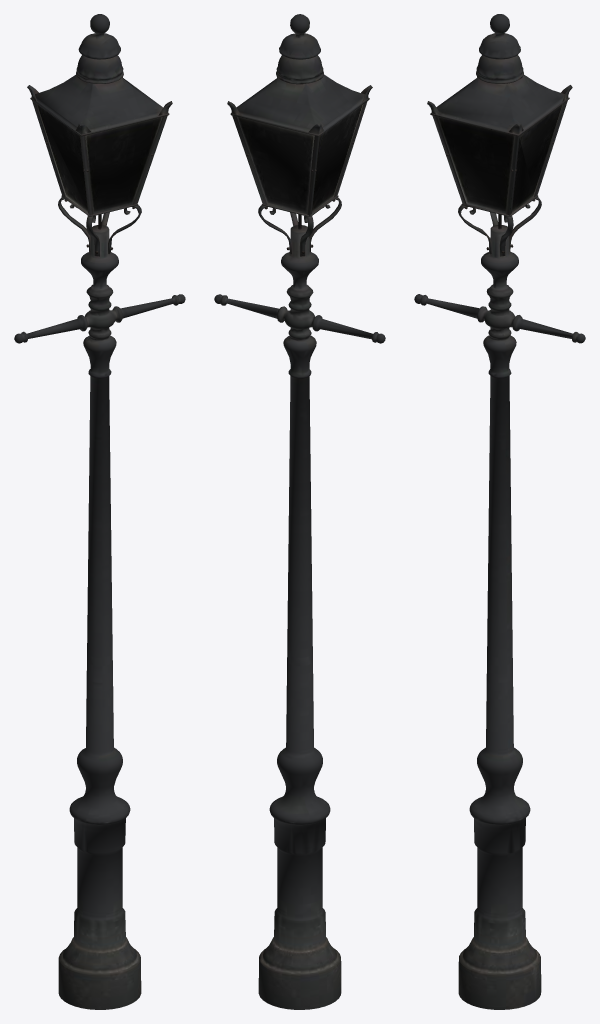
Rendered from street_lamp_01.glb.
3 renders of one model, left to right at view 1: azimuth 30°, elevation 25°; view 2: azimuth 150°, elevation 25°; view 3: azimuth 330°, elevation 25°, orthographic.
Parts seen in each view (by area): view 1: street_lamp_01; view 2: street_lamp_01; view 3: street_lamp_01.
Part boxes in pixels (left/top/right/bottom): street_lamp_01: left=14, top=14, right=185, bottom=1009; street_lamp_01: left=214, top=14, right=385, bottom=1009; street_lamp_01: left=414, top=14, right=585, bottom=1009.
Size of the model in its own units: 0.7034 by 3.87 by 0.3862.
2 materials, 2 textured.
